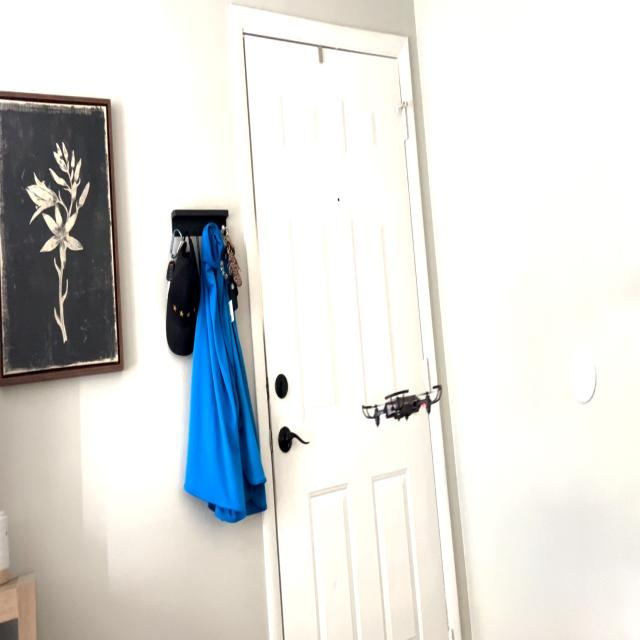drone: (355, 374, 454, 446)
